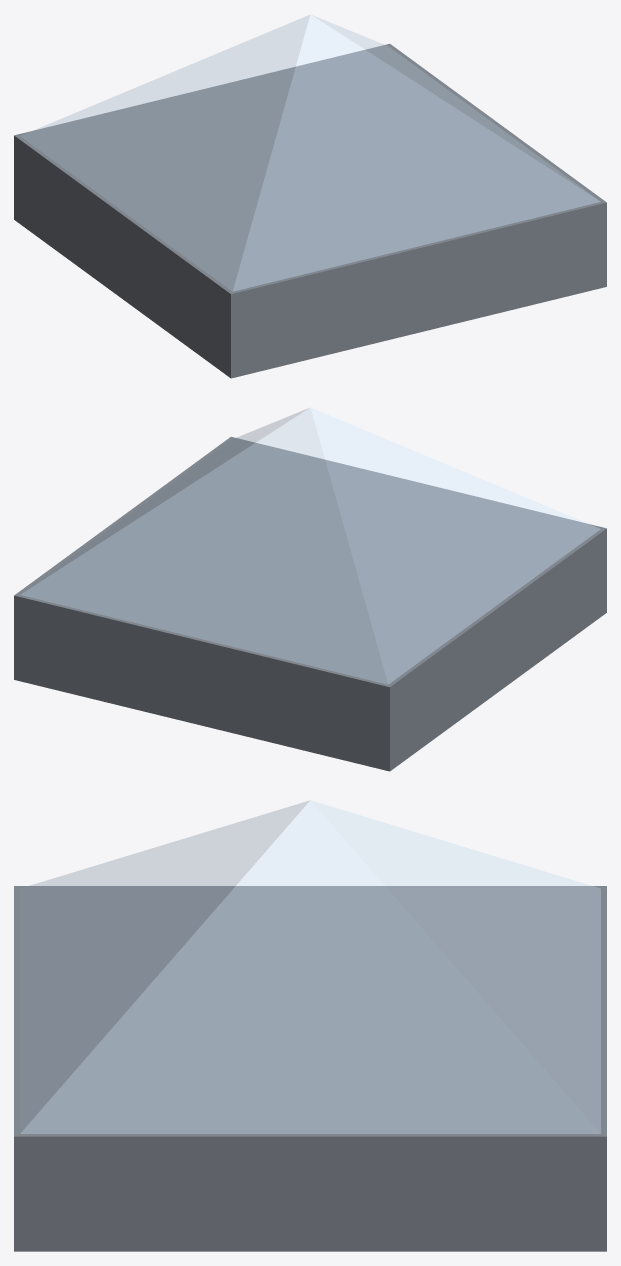
Rendered from skylight.glb.
3 views of the same model, one above another, from view 1: azimuth 30°, elevation 25°; view 2: azimuth 150°, elevation 25°; view 3: azimuth 270°, elevation 25° (orthographic). The views are drawn at different scales.
Parts seen in each view (by area): view 1: main; view 2: main; view 3: main.
Part boxes in pixels (left/top/right/bottom): main: left=14, top=14, right=606, bottom=378; main: left=14, top=407, right=606, bottom=771; main: left=14, top=800, right=606, bottom=1251.
Bounding box in the file's own units: 1.4 × 0.85 × 1.4.
